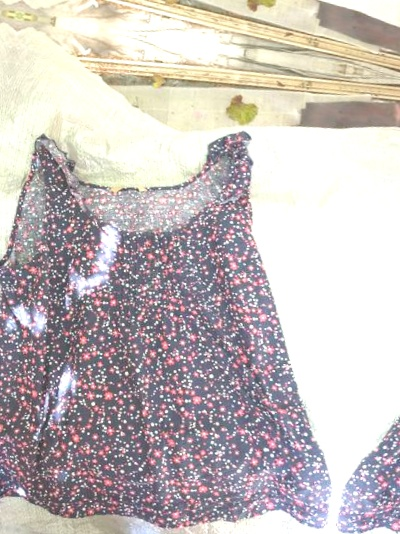Dress: (0, 96, 388, 534), (332, 159, 400, 534)
